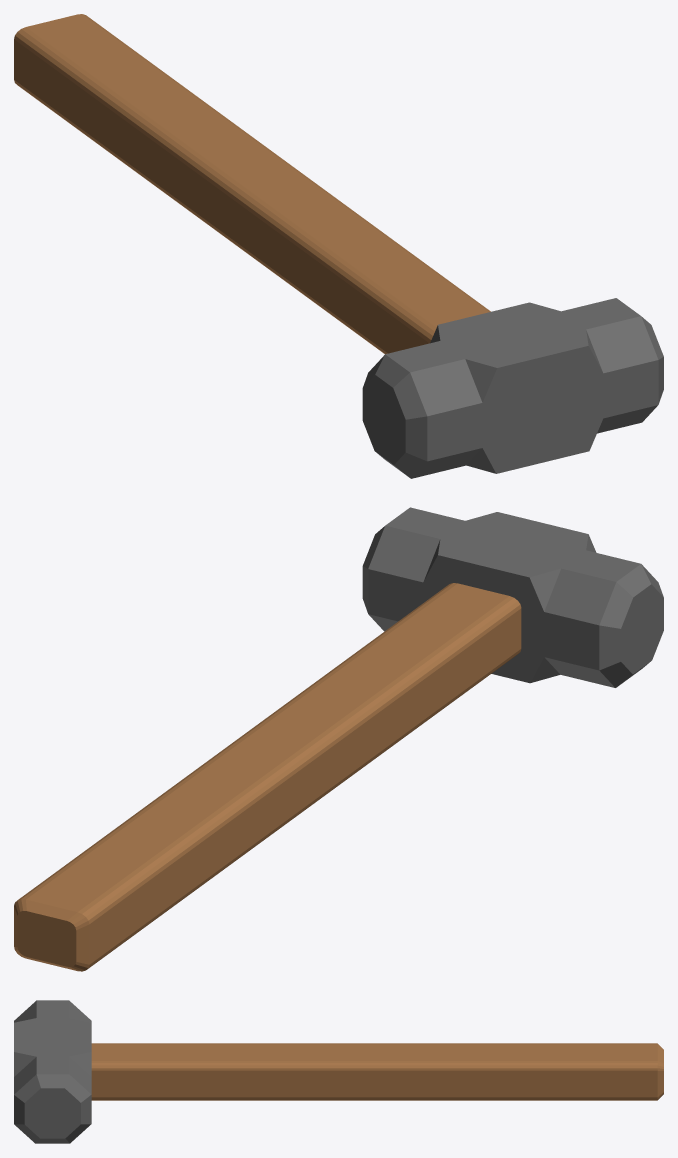
The model's file is Hammer_01.fbx.
3 renders of one model, top to bottom at view 1: azimuth 30°, elevation 25°; view 2: azimuth 150°, elevation 25°; view 3: azimuth 270°, elevation 25°, orthographic. The views are drawn at different scales.
Parts seen in each view (by area): view 1: Hammer_01_Handle, Hammer_01_Top; view 2: Hammer_01_Handle, Hammer_01_Top; view 3: Hammer_01_Handle, Hammer_01_Top.
Part boxes in pixels (x1,y1,x2,y2): Hammer_01_Handle: [14, 14, 490, 354]; Hammer_01_Top: [362, 298, 663, 478]; Hammer_01_Handle: [14, 583, 521, 971]; Hammer_01_Top: [362, 507, 663, 687]; Hammer_01_Handle: [91, 1043, 663, 1100]; Hammer_01_Top: [14, 1000, 91, 1143].
Bounding box in the file's own units: 0.3031 × 0.1186 × 1.01.
